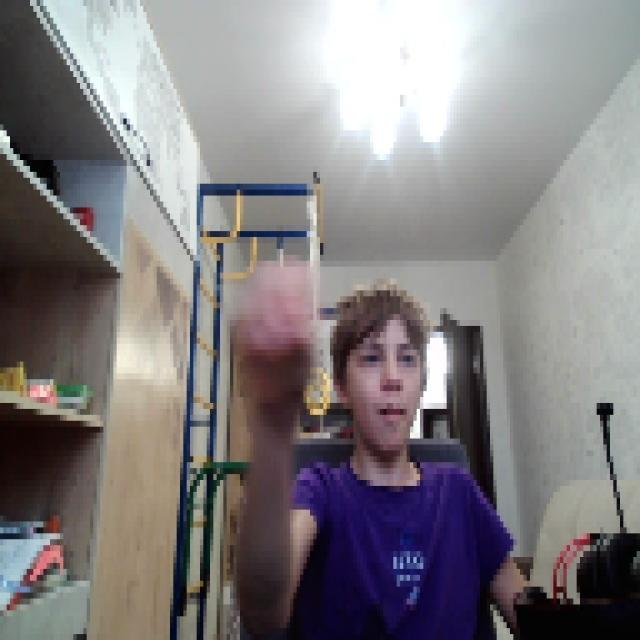left_click: (230, 254, 313, 426)
